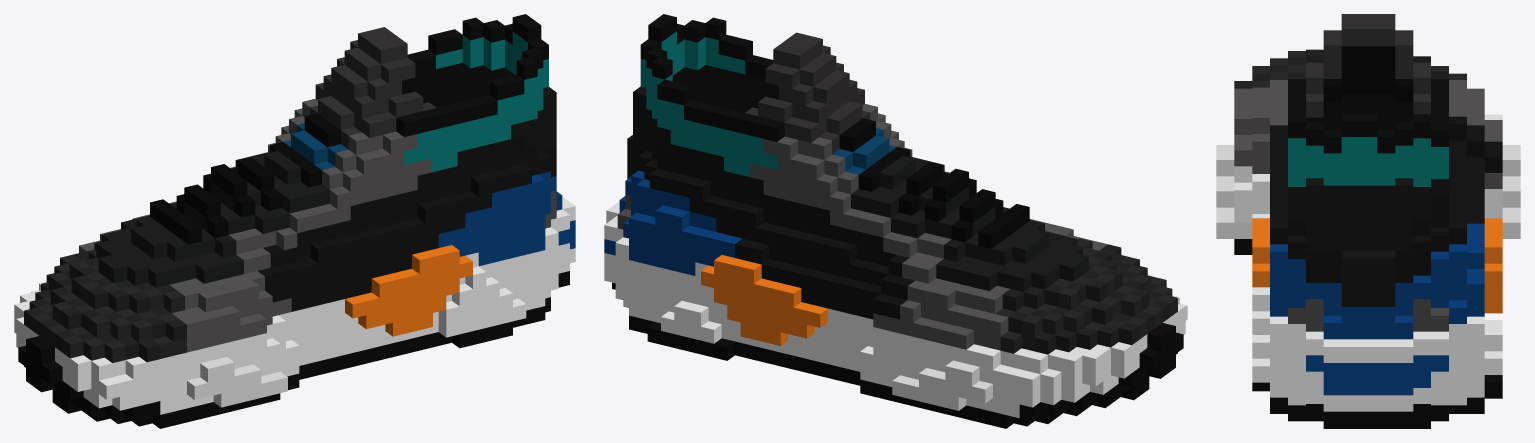
Rendered from Coral Reef.fbx.
The picture shows the model from 3 angles, left to right: view 1: azimuth 30°, elevation 25°; view 2: azimuth 150°, elevation 25°; view 3: azimuth 270°, elevation 25°; orthographic projection. The views are drawn at different scales.
Visible parts, largest first — view 1: Untitled; view 2: Untitled; view 3: Untitled.
Boxes of the visible parts, x1=… form: Untitled: x1=14, y1=14, x2=575, y2=428; Untitled: x1=604, y1=14, x2=1187, y2=428; Untitled: x1=1216, y1=14, x2=1520, y2=428.
Bounding box in the file's own units: 400 × 200 × 170.
